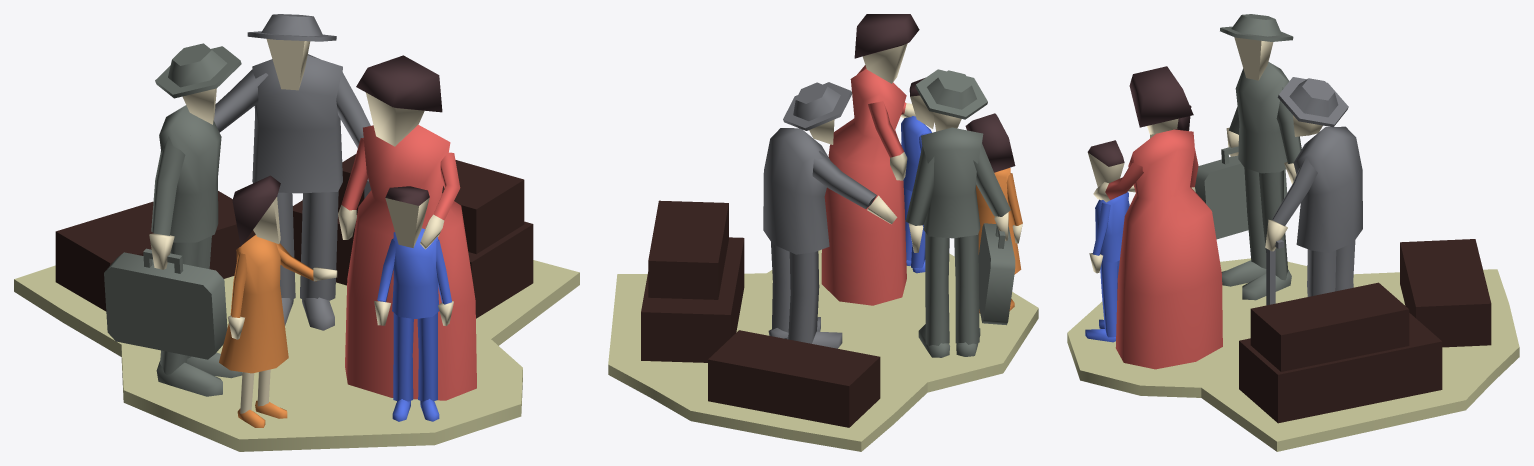
Rendered from mesh_OswiecimPassengerFamily.fbx.
3 views of the same model, side by side, from view 1: azimuth 30°, elevation 25°; view 2: azimuth 150°, elevation 25°; view 3: azimuth 270°, elevation 25° (orthographic). The views are drawn at different scales.
Parts seen in each view (by area): view 1: mesh_OswiecimPassengers; view 2: mesh_OswiecimPassengers; view 3: mesh_OswiecimPassengers.
Boxes of the visible parts, x1,y1,x2,y2 form: mesh_OswiecimPassengers: (14,14,579,451); mesh_OswiecimPassengers: (608,14,1038,451); mesh_OswiecimPassengers: (1067,14,1519,451).
Bounding box in the file's own units: 151 × 103 × 150.
